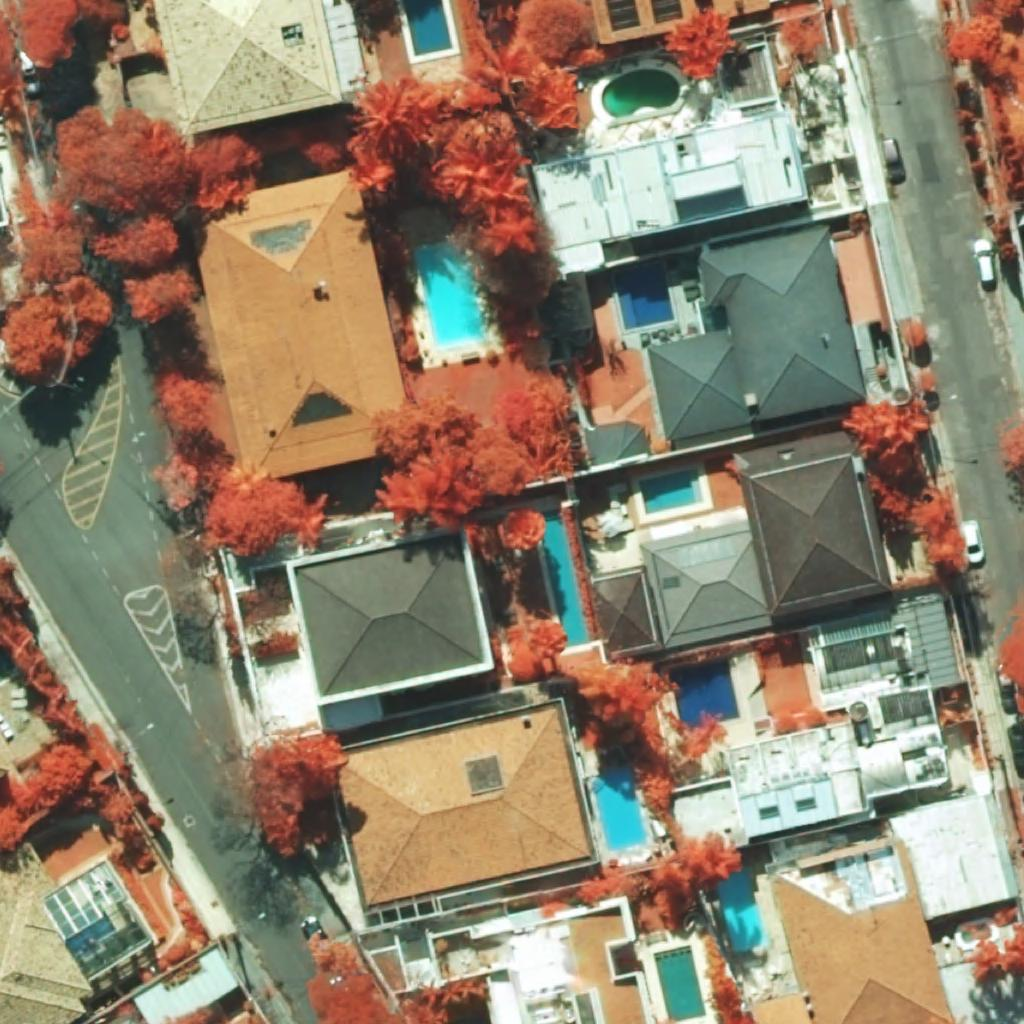pool: (415, 243, 485, 348), (542, 510, 590, 647), (671, 659, 739, 726), (592, 768, 648, 849), (614, 261, 675, 331), (717, 866, 767, 951), (653, 945, 706, 1022), (602, 69, 680, 118), (639, 469, 703, 514), (65, 916, 116, 955), (0, 648, 16, 682)
